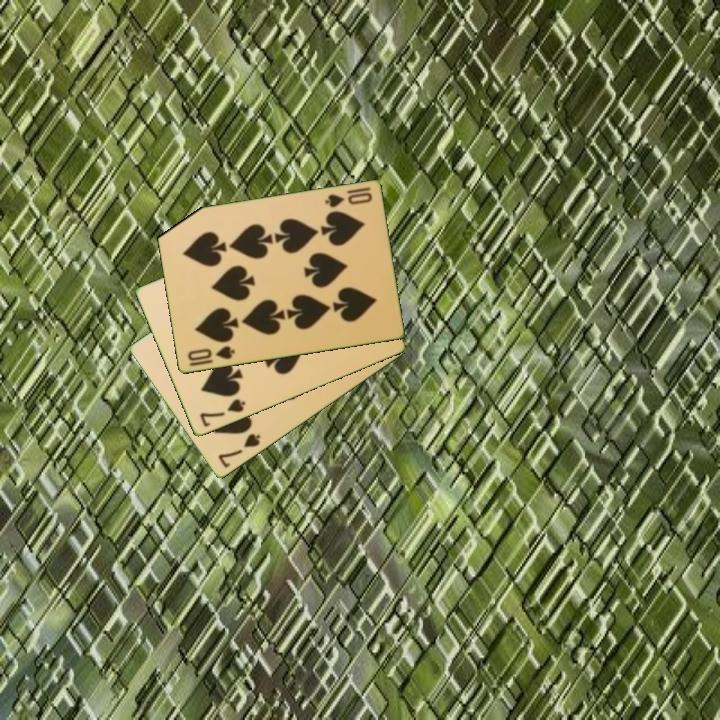10s: (321, 184, 375, 211), (184, 343, 237, 364)
7s: (214, 430, 263, 471), (196, 395, 248, 430)
